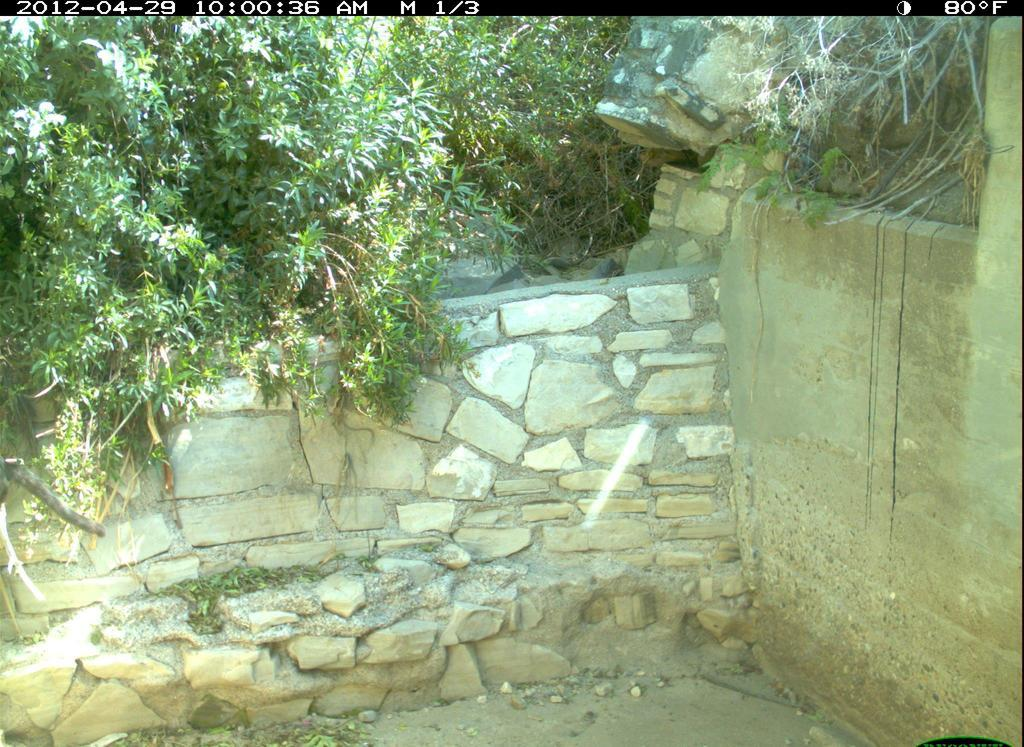cat: (2, 452, 114, 552)
